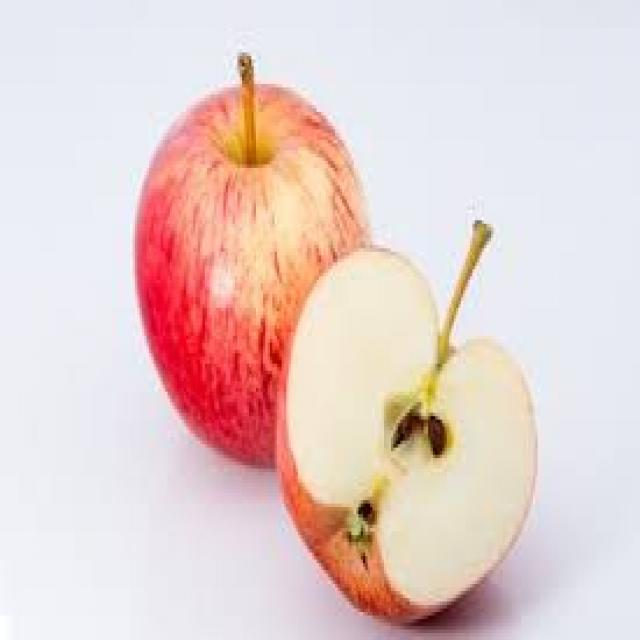Apple: (278, 240, 537, 617), (132, 80, 370, 454)
